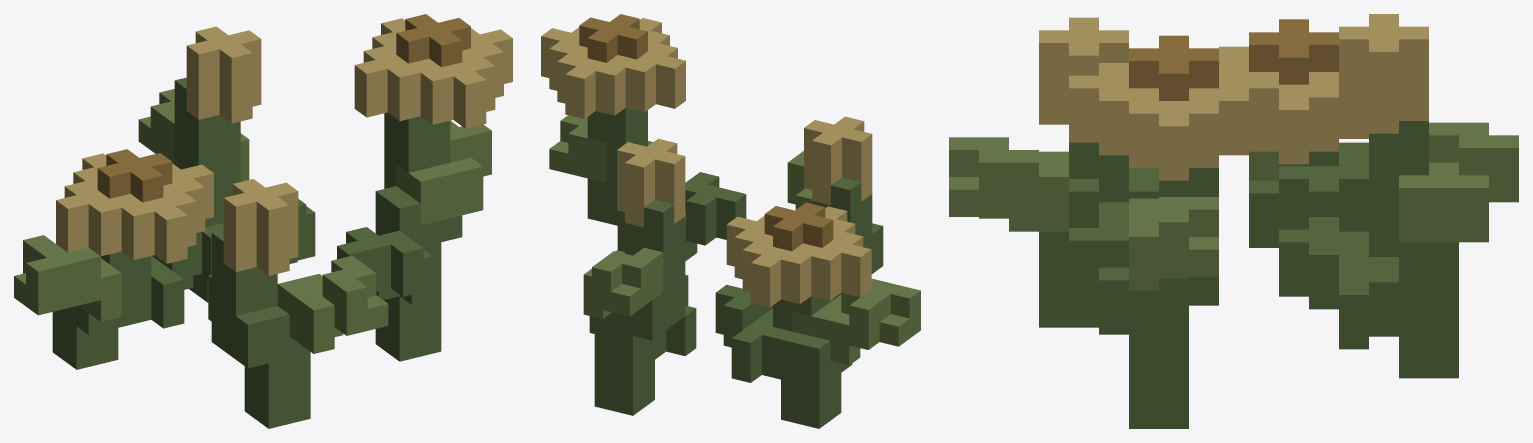
File: flowers_3_spring.glb
3 views of the same model, side by side, from view 1: azimuth 30°, elevation 25°; view 2: azimuth 150°, elevation 25°; view 3: azimuth 270°, elevation 25° (orthographic). The views are drawn at different scales.
Visible parts, largest first — view 1: VoxelVisual; view 2: VoxelVisual; view 3: VoxelVisual.
Boxes of the visible parts, x1,y1,x2,y2 form: VoxelVisual: (14, 14, 512, 428); VoxelVisual: (541, 14, 920, 428); VoxelVisual: (949, 14, 1518, 428).
Size of what is drawn, in the model's own units: 1.31 by 0.875 by 1.19.
